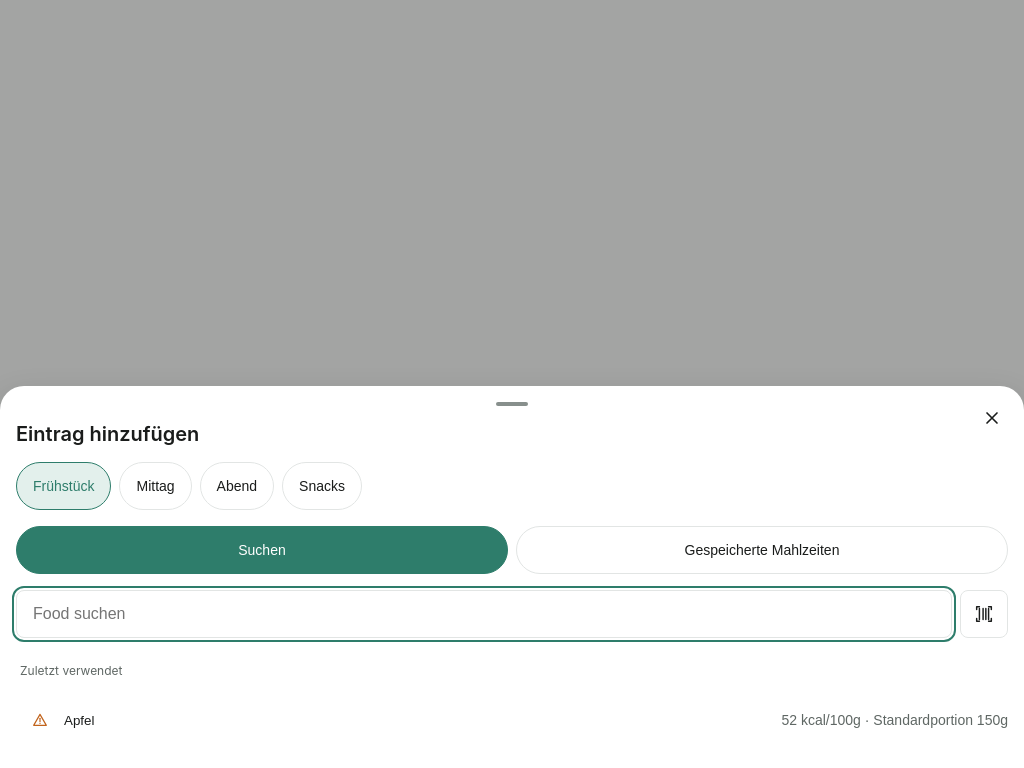
Scenario: FoodEntrySheetComponent › Step B — Anlegen (Tap auf Trefferzeile) › shows the food name as a non-editable heading and a "Zurück" chevron (create flow)
Click the button with class "result-row" at (131,719), box [64, 696, 1008, 744]
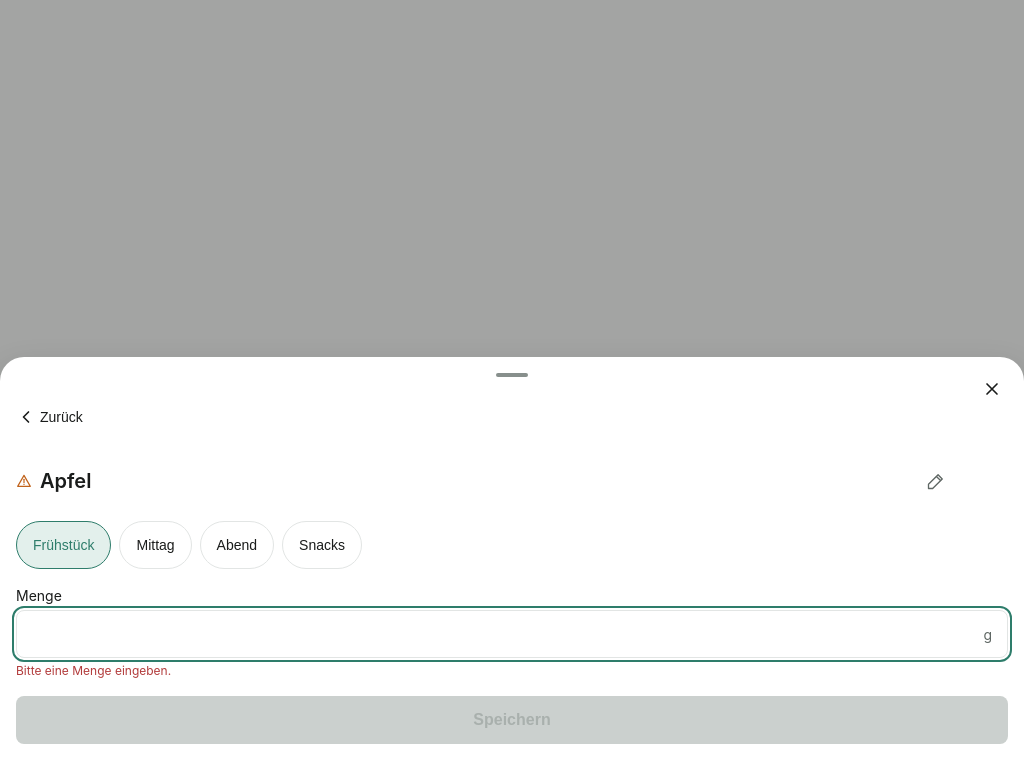
Expected: the heading with class "sheet-title" reads "Apfel", [40, 469, 91, 493]
Expected: the button with class "back-button" is shown, [16, 393, 91, 441]
